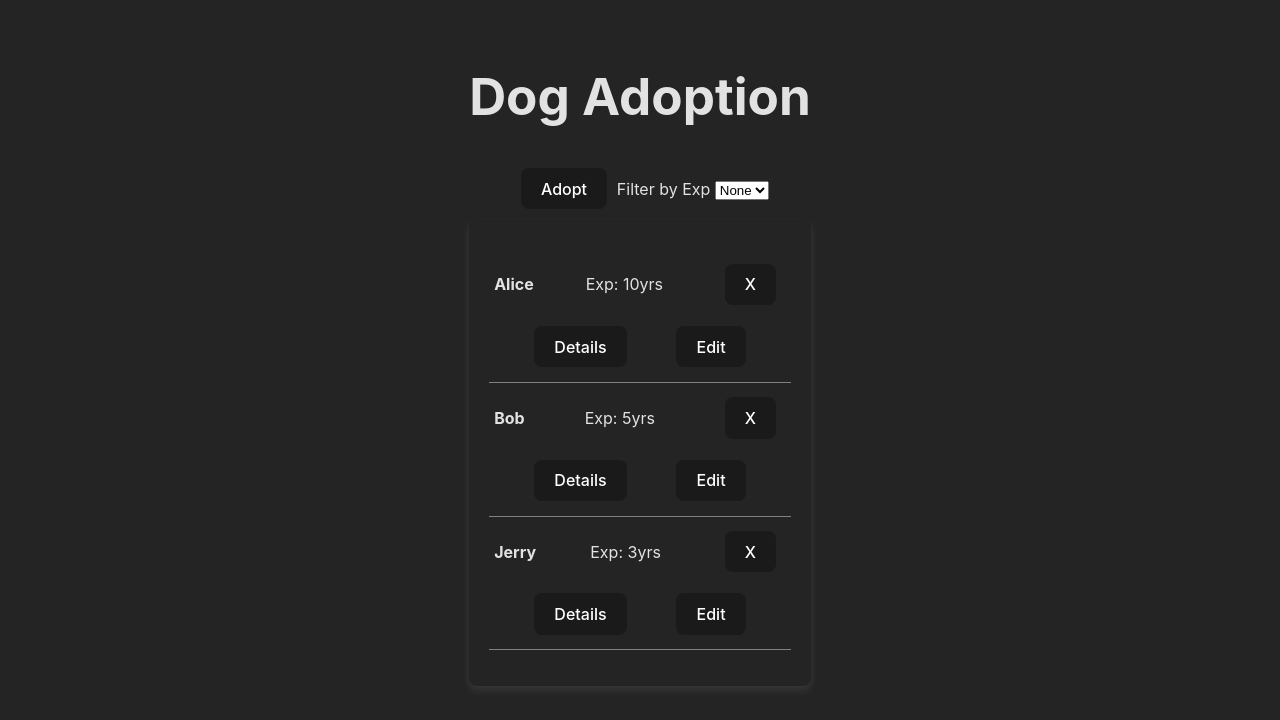
Test: OwnerList › edit owner
The image size is (1280, 720).
Check: the text "Alice" is shown, box [494,274,534,294]
Step 1. Click the button "Edit" below "Alice" → point(711, 347), box [676,326,745,367]
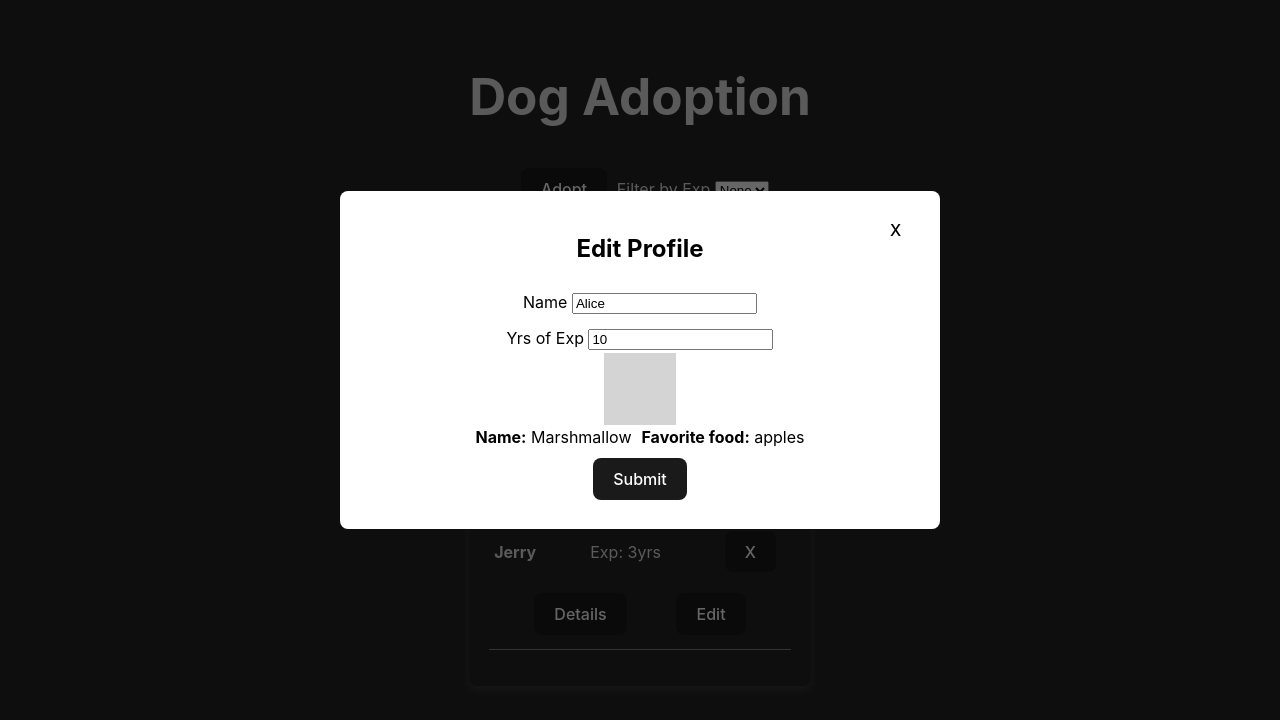
Check: the heading "Edit Profile" is shown, box [576,234,704,263]
Step 2. Clear the field with id "name" → point(665, 304), box [572,293,757,314]
Step 3. Clear the number field with id "exp" → point(681, 340), box [588,329,773,350]
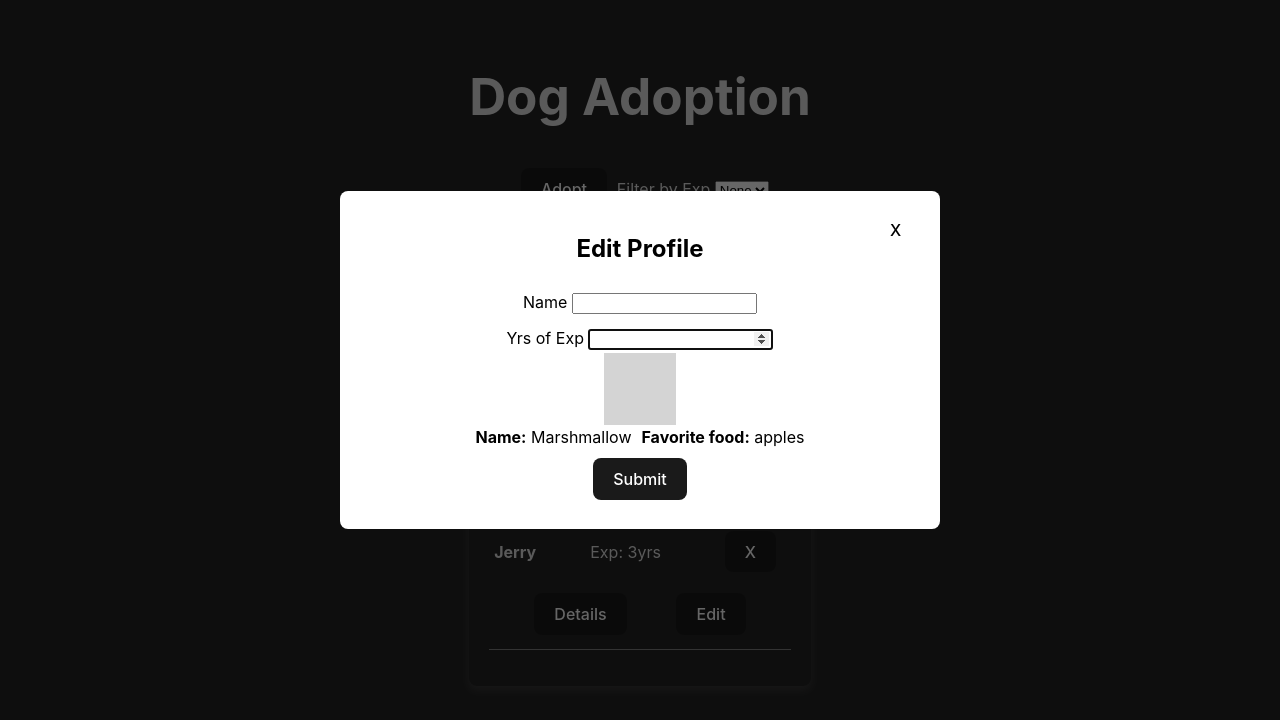
Step 4. Click the button "Submit" → point(640, 479), box [593,458,687,499]
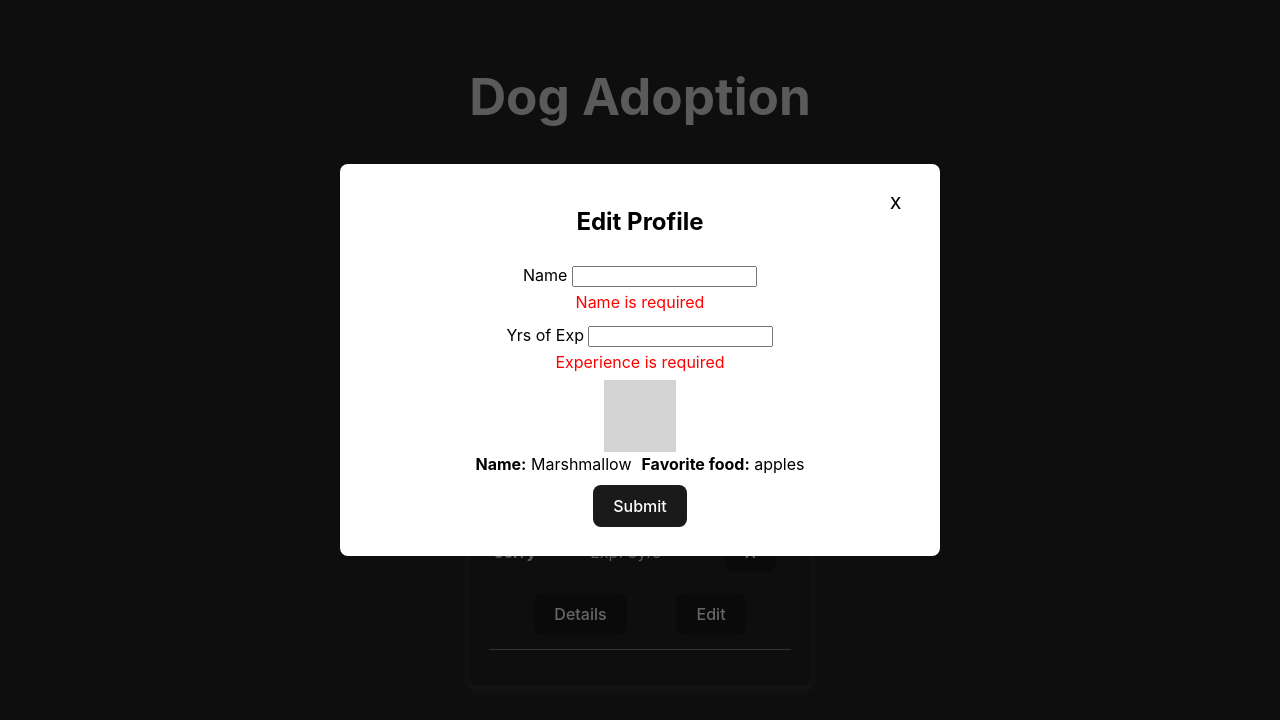
Check: the text "Name is required" is shown, box [576,292,704,312]
Check: the text "Experience is required" is shown, box [555,352,725,372]
Step 5. Type "Nick" into the field with id "name" → point(665, 277), box [572,266,757,287]
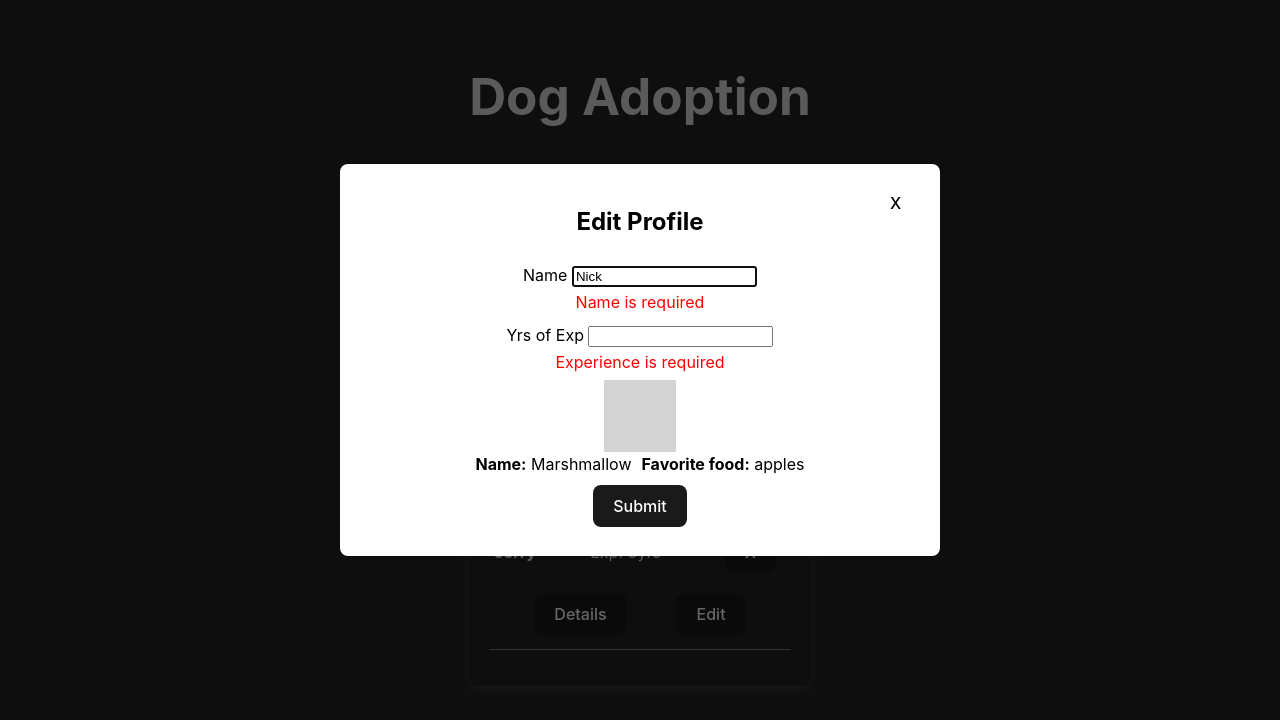
Step 6. Type "5" into the number field with id "exp" → point(681, 337), box [588,326,773,347]
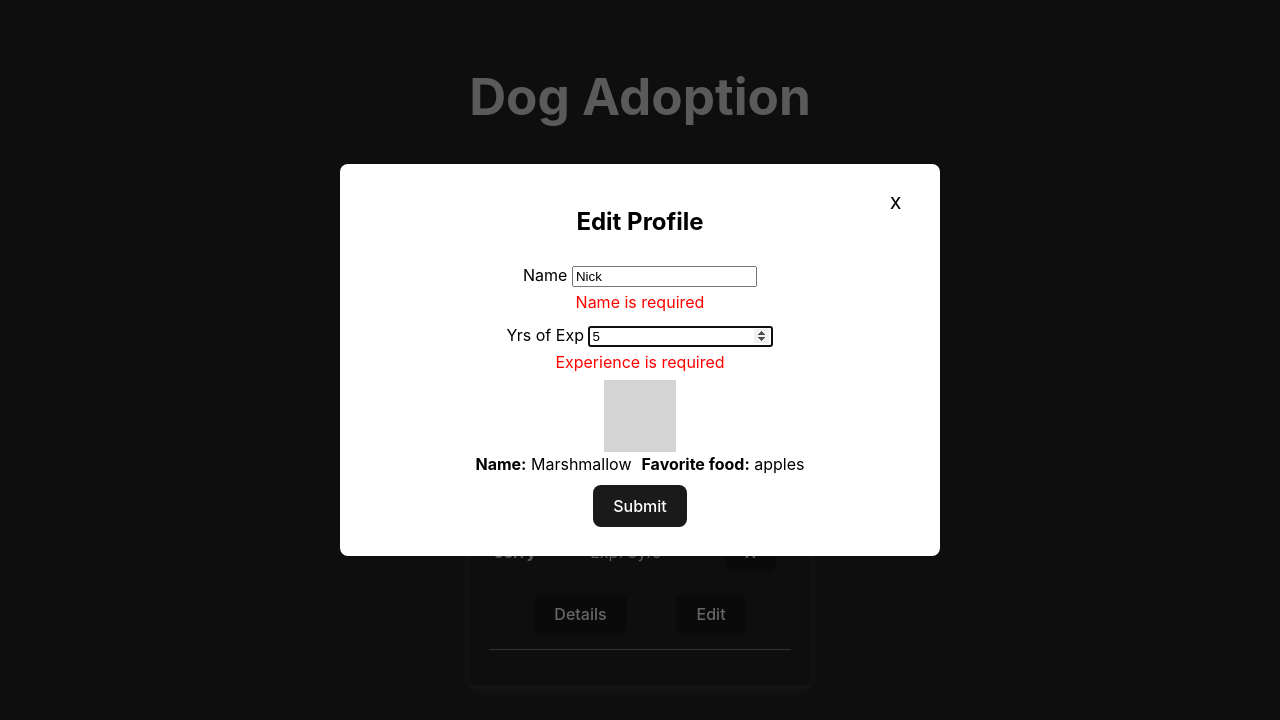
Step 7. Click the button "Submit" → point(640, 506), box [593,485,687,526]
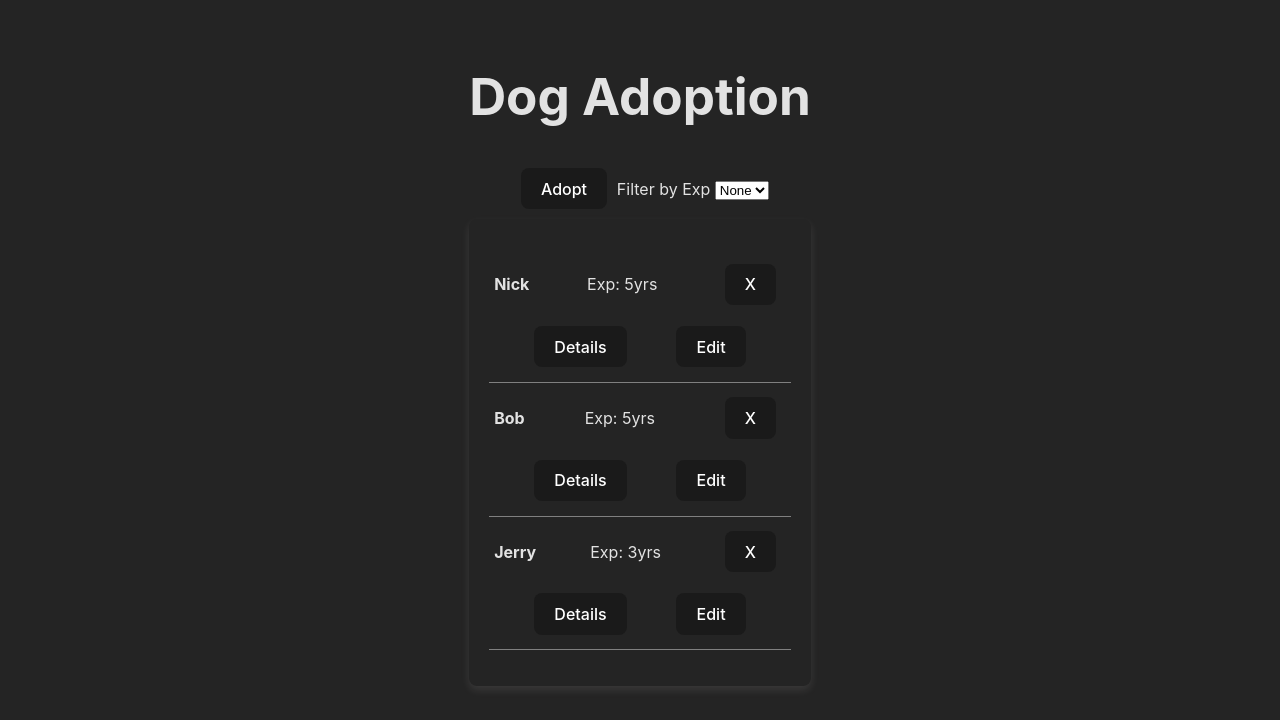
Check: the text "Alice" is gone
Check: the text "Nick" is shown, box [494,274,529,294]
